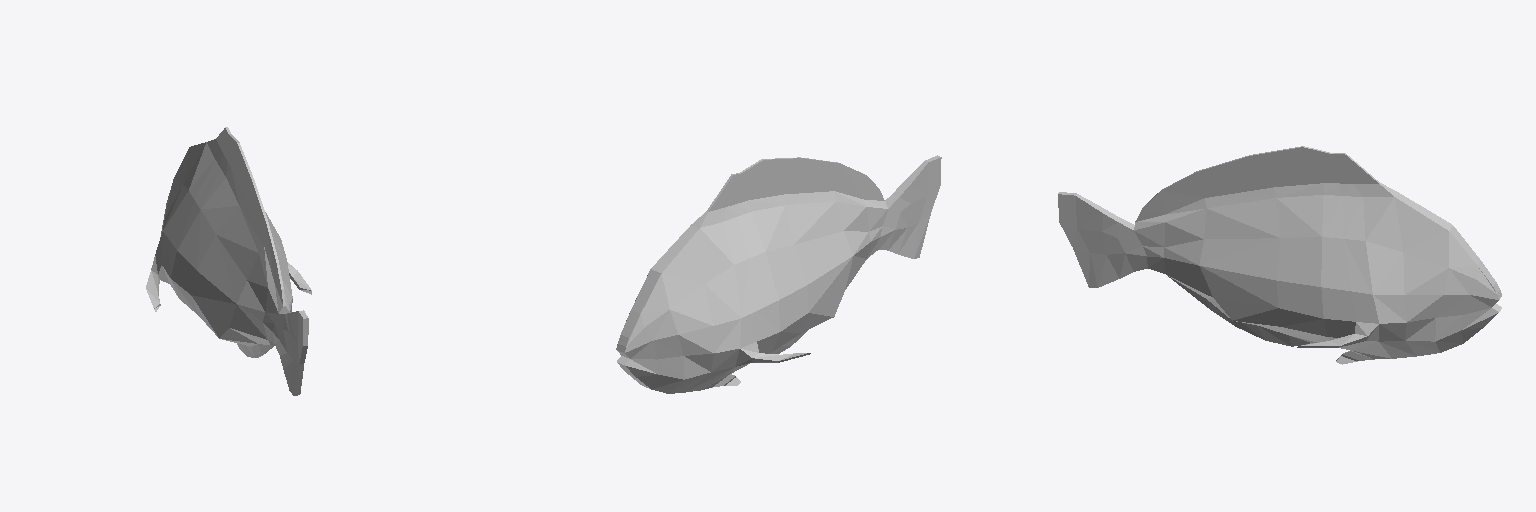
The model's file is pez1.obj.
3 renders of one model, left to right at view 1: azimuth 30°, elevation 25°; view 2: azimuth 150°, elevation 25°; view 3: azimuth 270°, elevation 25°, orthographic.
Visible parts, largest first — view 1: polySurface74 polySurface73 polySurface71 polySurface68; view 2: polySurface74 polySurface73 polySurface71 polySurface68; view 3: polySurface74 polySurface73 polySurface71 polySurface68.
Part boxes in pixels (left/top/right/bottom): polySurface74 polySurface73 polySurface71 polySurface68: left=146, top=127, right=311, bottom=395; polySurface74 polySurface73 polySurface71 polySurface68: left=616, top=155, right=941, bottom=393; polySurface74 polySurface73 polySurface71 polySurface68: left=1058, top=146, right=1501, bottom=364.
Bounding box in the file's own units: 0.2897 × 0.4079 × 0.7724.